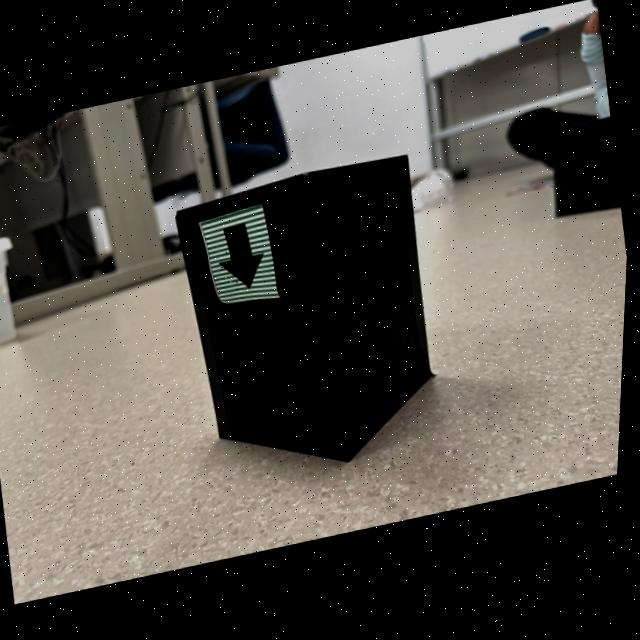DOWN: (224, 227, 264, 291)
